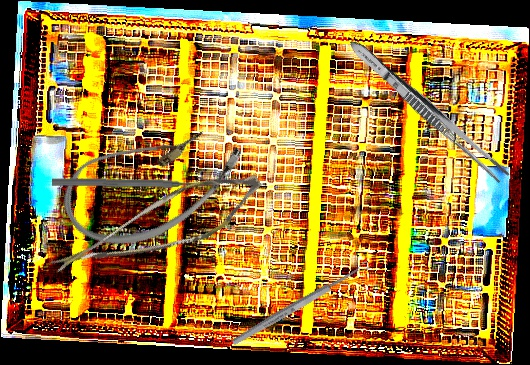Cannula: (48, 90, 257, 271)
Dressing Forceps: (344, 35, 513, 186)
Micro Scissor: (49, 139, 270, 319)
Pusher: (51, 176, 218, 191)
Surgical Spoon: (230, 259, 372, 348)
